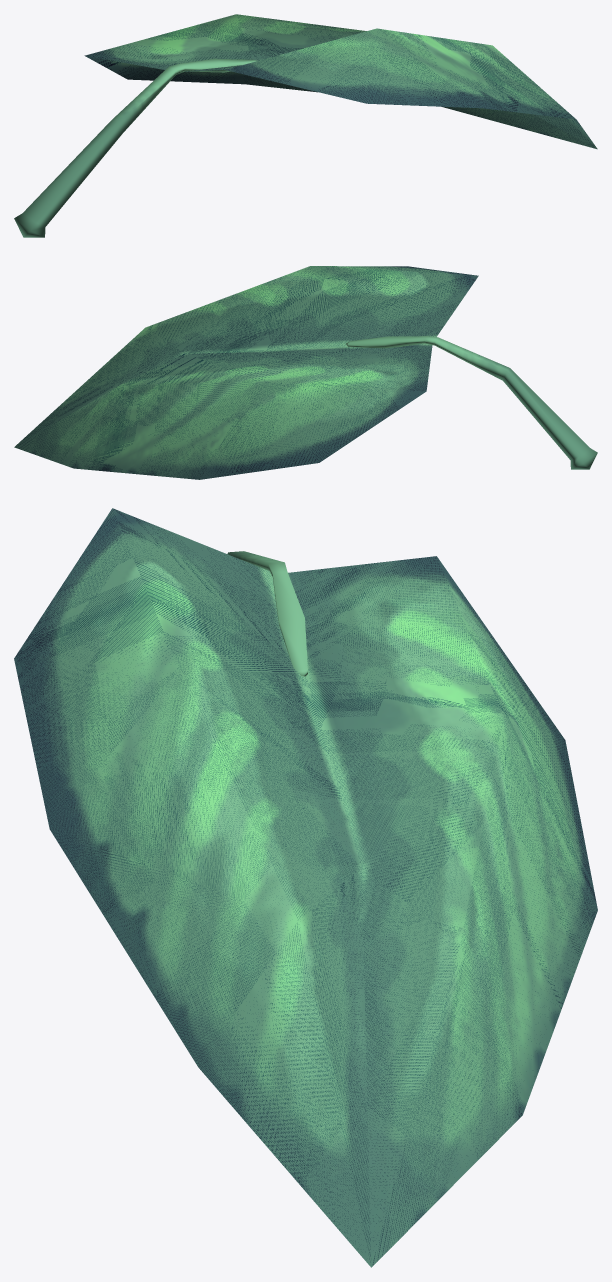
The model's file is leaf03.fbx.
3 renders of one model, top to bottom at view 1: azimuth 30°, elevation 25°; view 2: azimuth 150°, elevation 25°; view 3: azimuth 270°, elevation 25°, orthographic. The views are drawn at different scales.
Visible parts, largest first — view 1: leaf03; view 2: leaf03; view 3: leaf03.
Part boxes in pixels (x1,y1,x2,y2): leaf03: [14, 14, 597, 237]; leaf03: [14, 266, 597, 479]; leaf03: [14, 508, 597, 1267].
Size of the model in its own units: 0.7449 by 0.2863 by 0.3768.
